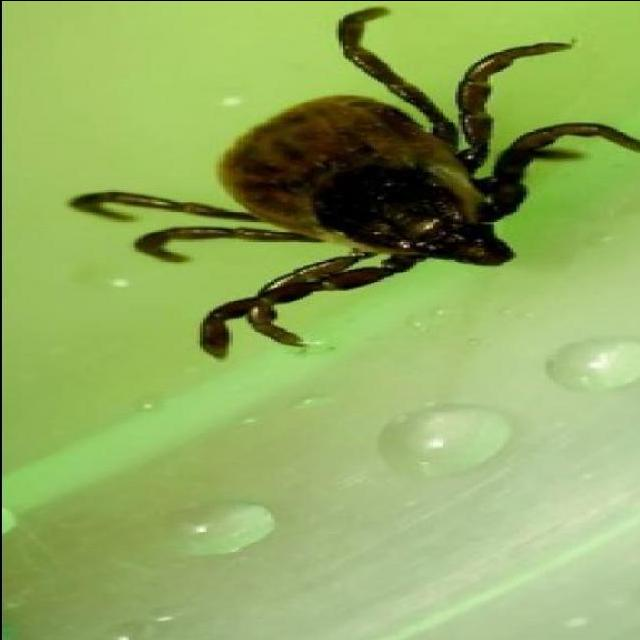Rhipicephalus Sanguineus-F: (65, 6, 640, 362)
